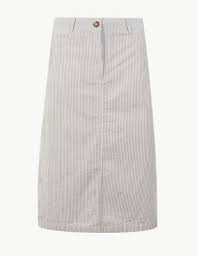C_skirt: (26, 13, 165, 234)
